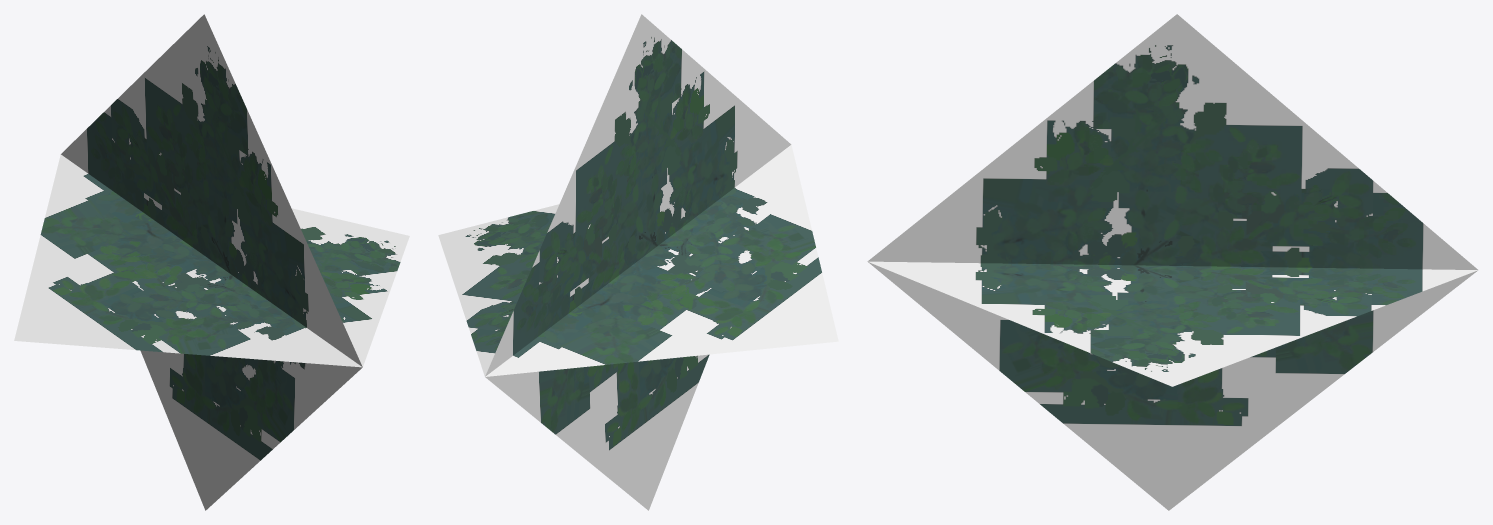
File: m_leaves02.fbx
3 views of the same model, side by side, from view 1: azimuth 30°, elevation 25°; view 2: azimuth 150°, elevation 25°; view 3: azimuth 270°, elevation 25° (orthographic).
Visible parts, largest first — view 1: m_leaves01; view 2: m_leaves01; view 3: m_leaves01.
Boxes of the visible parts, left/top/right/bottom form: m_leaves01: left=14, top=14, right=409, bottom=510; m_leaves01: left=438, top=14, right=838, bottom=510; m_leaves01: left=867, top=14, right=1478, bottom=510.
Bounding box in the file's own units: 335 × 399 × 443.
